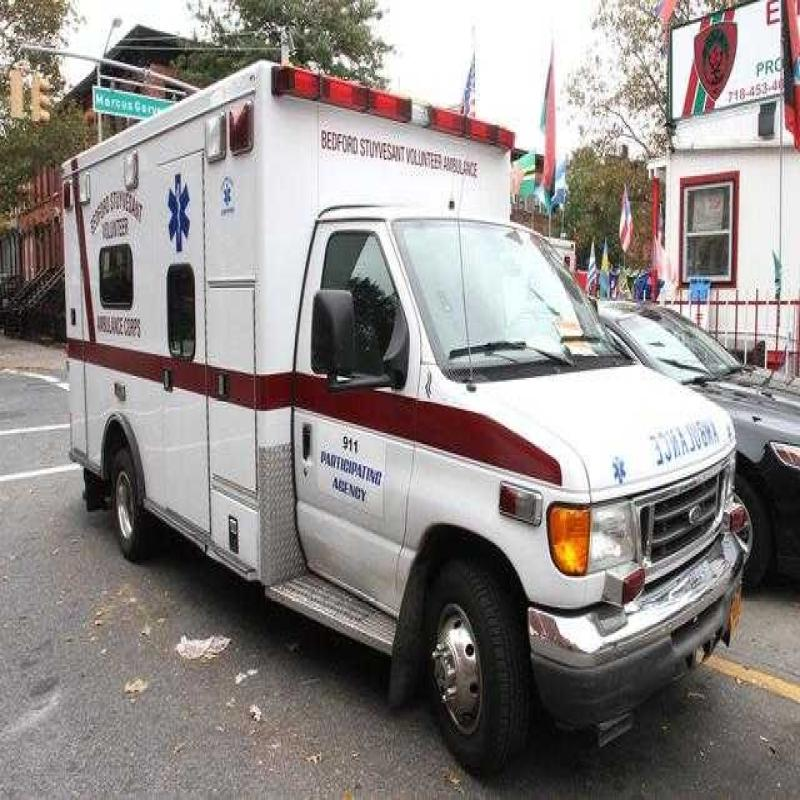AmbulanceSiren: (276, 54, 522, 180)
